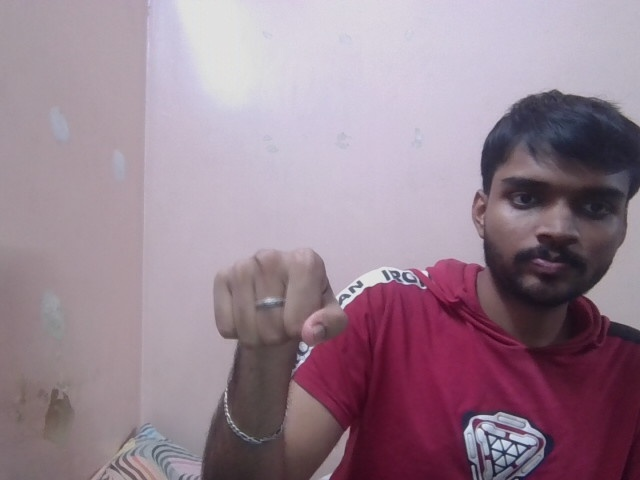Yes: (208, 243, 351, 347)
